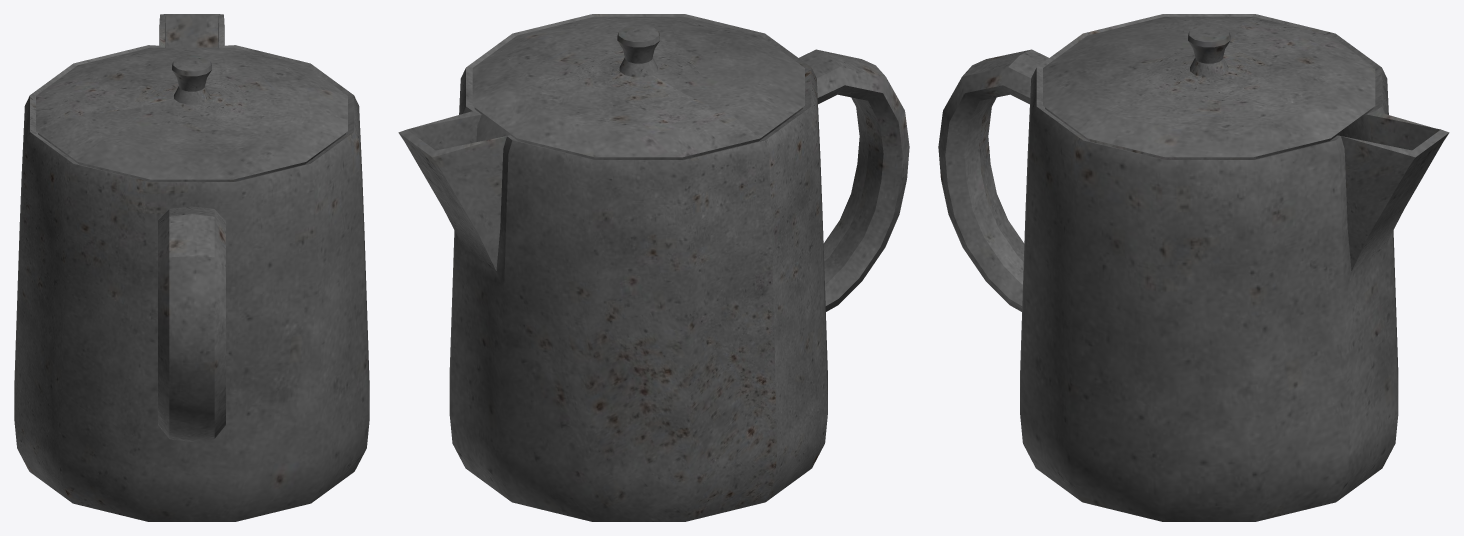
File: SmallerKettle.fbx
3 renders of one model, left to right at view 1: azimuth 30°, elevation 25°; view 2: azimuth 150°, elevation 25°; view 3: azimuth 270°, elevation 25°, orthographic. The views are drawn at different scales.
Visible parts, largest first — view 1: SmallerKettle; view 2: SmallerKettle; view 3: SmallerKettle.
Part boxes in pixels (bbox=[...]): SmallerKettle: bbox=[14, 14, 369, 521]; SmallerKettle: bbox=[398, 14, 909, 521]; SmallerKettle: bbox=[938, 14, 1449, 521].
Bounding box in the file's own units: 19.8 × 24.25 × 26.77.
1 material, 1 textured.
